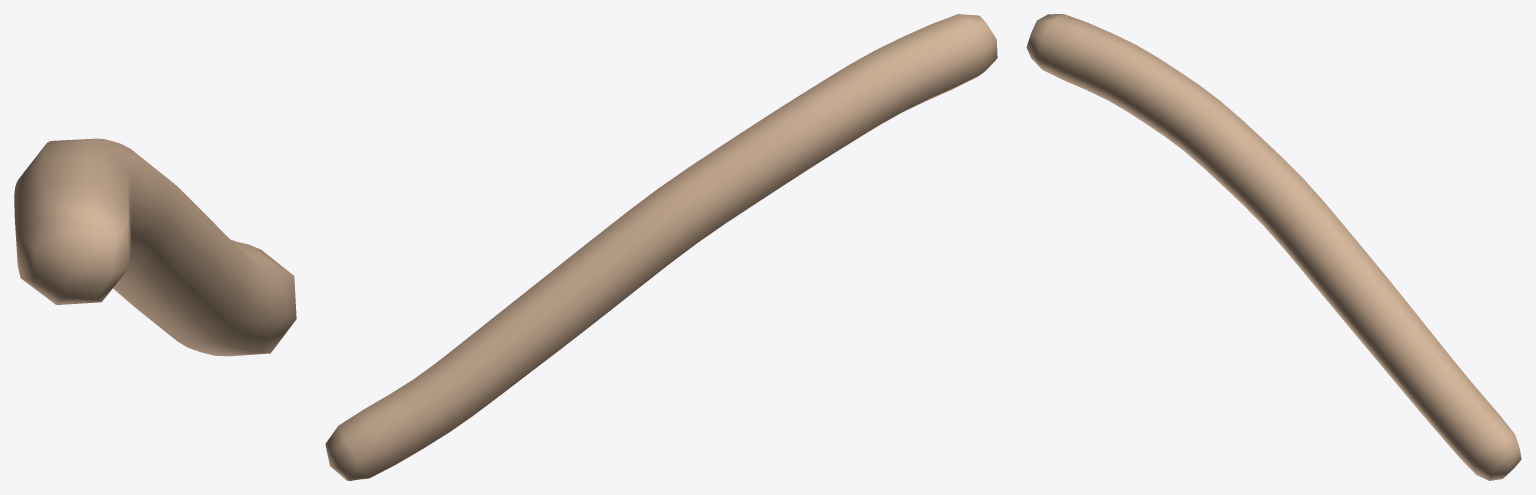
3 views of the same model, side by side, from view 1: azimuth 30°, elevation 25°; view 2: azimuth 150°, elevation 25°; view 3: azimuth 270°, elevation 25° (orthographic). The views are drawn at different scales.
Visible parts, largest first — view 1: 左侧拇长伸肌腱鞘; view 2: 左侧拇长伸肌腱鞘; view 3: 左侧拇长伸肌腱鞘.
Part boxes in pixels (x1,y1,x2,y2): 左侧拇长伸肌腱鞘: [14, 138, 296, 356]; 左侧拇长伸肌腱鞘: [325, 14, 997, 480]; 左侧拇长伸肌腱鞘: [1026, 14, 1521, 480].
Size of the model in its own units: 0.0503 by 0.0423 by 0.0611.
